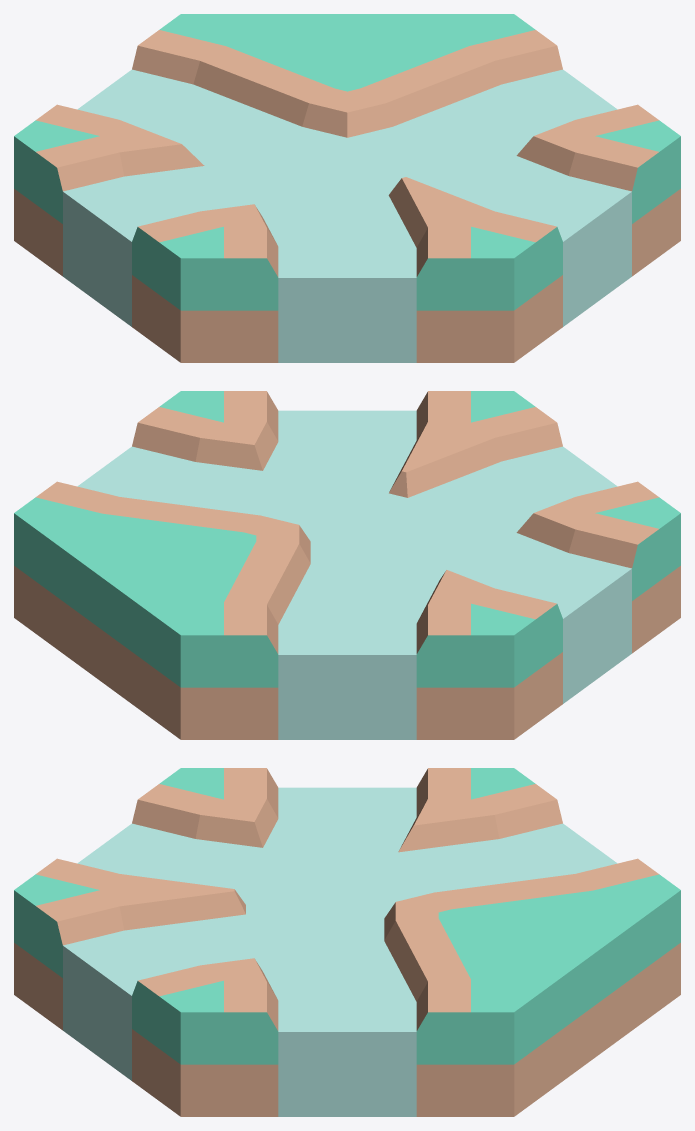
File: river_intersectionG.glb
3 views of the same model, one above another, from view 1: azimuth 30°, elevation 25°; view 2: azimuth 150°, elevation 25°; view 3: azimuth 270°, elevation 25° (orthographic).
Visible parts, largest first — view 1: river_intersectionG; view 2: river_intersectionG; view 3: river_intersectionG.
Part boxes in pixels (x1=…): river_intersectionG: x1=14, y1=14, x2=680, y2=362; river_intersectionG: x1=14, y1=391, x2=680, y2=739; river_intersectionG: x1=14, y1=768, x2=680, y2=1116.
Bounding box in the file's own units: 1 × 0.2 × 1.15.
